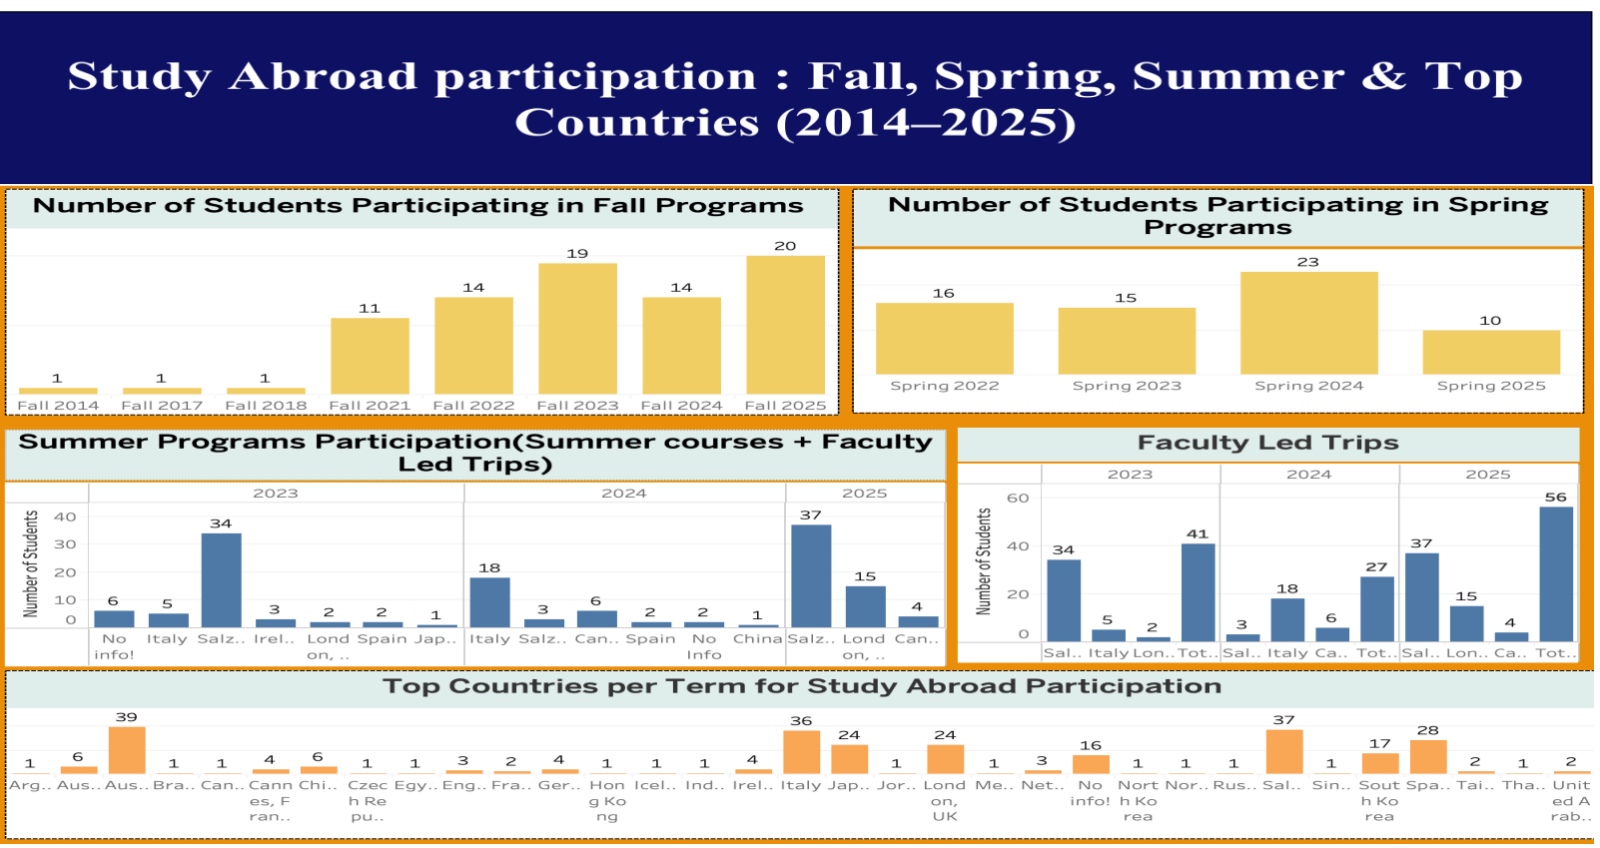

The dashboard page shown, as its layout file describes it:
{"tool":"tableau","page":{"name":"Students participation","canvas":[1200,900],"ordinal":1},"visuals":[{"type":"text","box":[8,8,1184,171]},{"type":"text","box":[8,179,1184,713]},{"type":"filter","title":"Top Countries per Term for Study Abroad Participation","param":"[federated.1l9v1b01vwjzgq1f6gx5r009c1w4].[none:Program Preferences Term:nk]","box":[1013,189,167,700]},{"type":"worksheet","title":"Number of Students – Fall Terms","mark":"Bar","rows":["Student ID Number"],"cols":["Program Preferences Term"],"box":[17,191,522,240]},{"type":"worksheet","title":"Number of Students – Spring Terms","mark":"Bar","rows":["Student ID Number"],"cols":["Program Preferences Term"],"box":[547,191,458,238]},{"type":"worksheet","title":"Faculty Led Summer Trip","mark":"Bar","rows":["Student ID Number"],"cols":["Program Preference Term","Trip"],"box":[613,444,389,249]},{"type":"worksheet","title":"Summer Programs Participations","mark":"Bar","rows":["Student ID Number"],"cols":["Program Preference Term","Trip"],"box":[17,446,589,251]},{"type":"worksheet","title":"Top Countries per Term for Study Abroad Participation","mark":"Bar","rows":["Student ID Number"],"cols":["Country Choice"],"box":[17,701,998,179]}]}

Visuals, with their boxes on the page's 1200x900 design canvas (x1, y1, x2, y2). These are canvas units, not pixel positions in the 1600x848 screenshot, which may show the page scaled, cropped or inside an application window:
text: detection(8, 8, 1192, 179)
text: detection(8, 179, 1192, 892)
"Top Countries per Term for Study Abroad Participation" filter: detection(1013, 189, 1180, 889)
"Number of Students – Fall Terms" worksheet (Bar marks): detection(17, 191, 539, 431)
"Number of Students – Spring Terms" worksheet (Bar marks): detection(547, 191, 1005, 429)
"Faculty Led Summer Trip" worksheet (Bar marks): detection(613, 444, 1002, 693)
"Summer Programs Participations" worksheet (Bar marks): detection(17, 446, 606, 697)
"Top Countries per Term for Study Abroad Participation" worksheet (Bar marks): detection(17, 701, 1015, 880)
